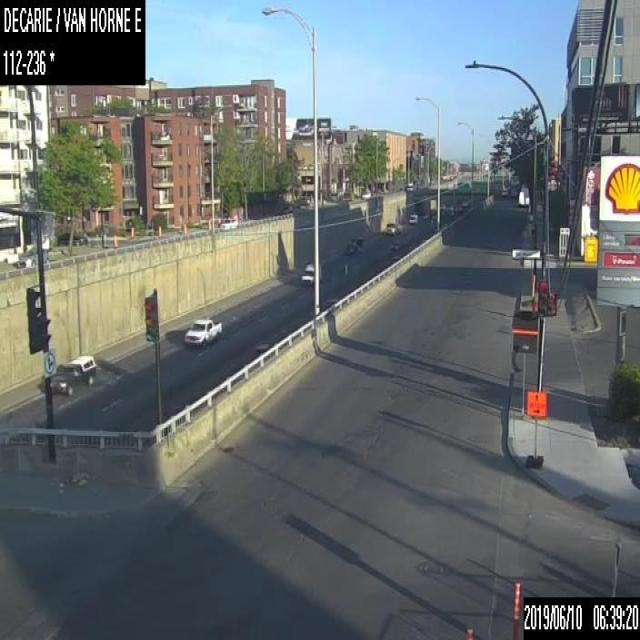construction: (525, 387, 546, 467), (512, 578, 520, 638), (464, 626, 476, 638)
vehicle: (50, 352, 95, 395), (184, 316, 222, 346), (18, 245, 46, 267), (300, 262, 315, 286), (344, 234, 362, 253), (219, 215, 237, 229), (518, 187, 529, 206), (384, 221, 398, 234), (408, 213, 417, 223), (360, 188, 370, 197), (406, 181, 414, 191), (501, 184, 507, 196)
